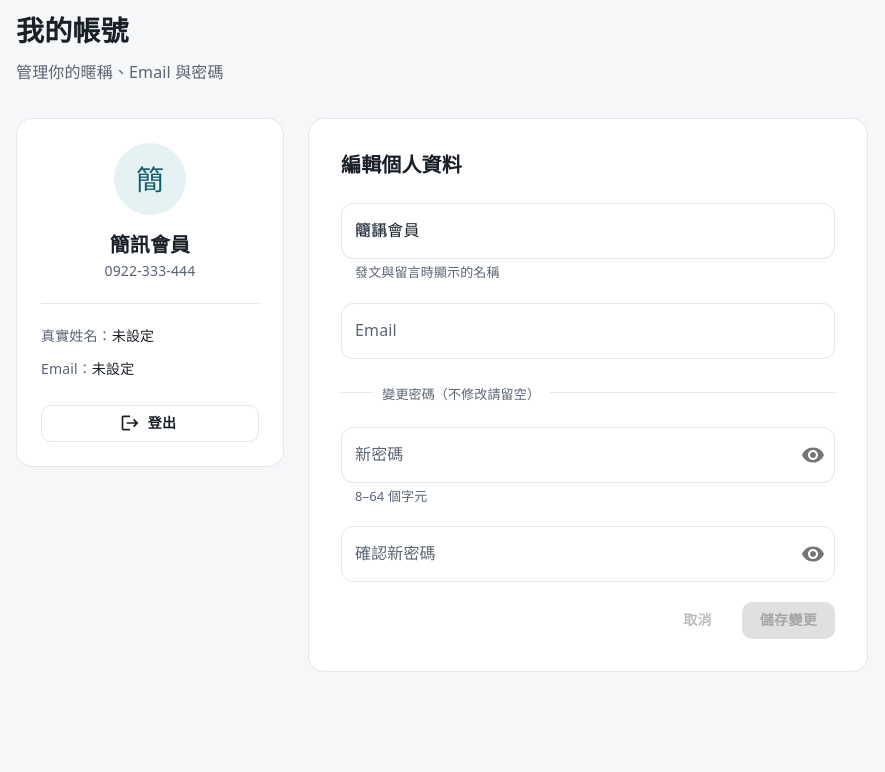
Test case: ProfilePage — change password › lets an SMS-only account set a first password without the current password
The width and height of the screenshot is (885, 772).
Expected: the field labelled "暱稱" holds "簡訊會員", [341,203,835,259]
Step 1. Type "brand-new-pass-1" into the password field labelled "新密碼" → (563, 455), box [341,427,785,483]
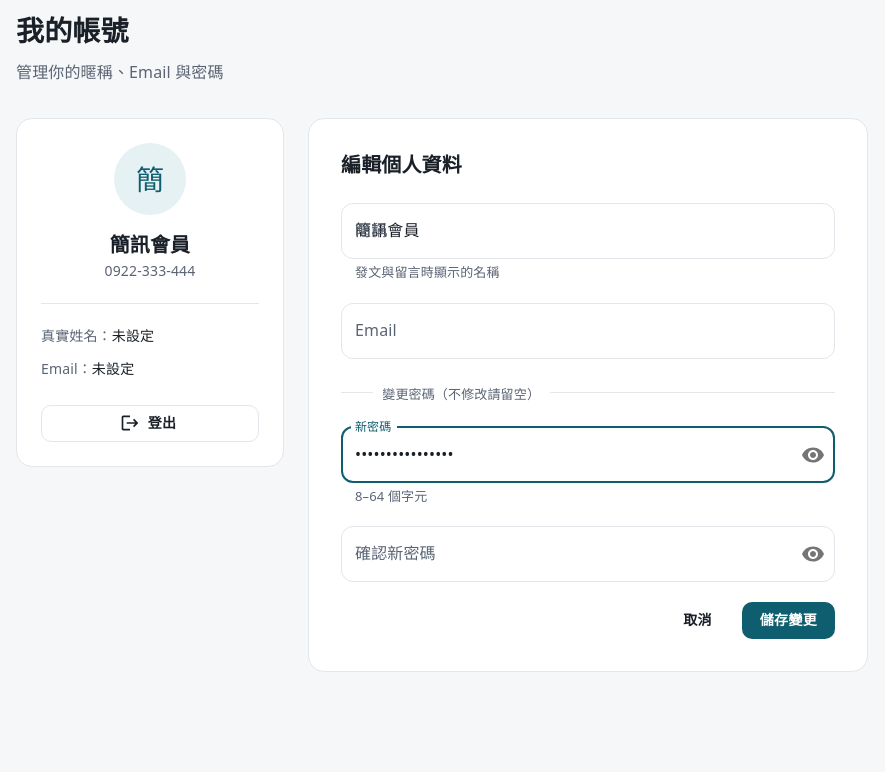
Step 2. Type "brand-new-pass-1" into the password field labelled "確認新密碼" → (563, 554), box [341,526,785,582]
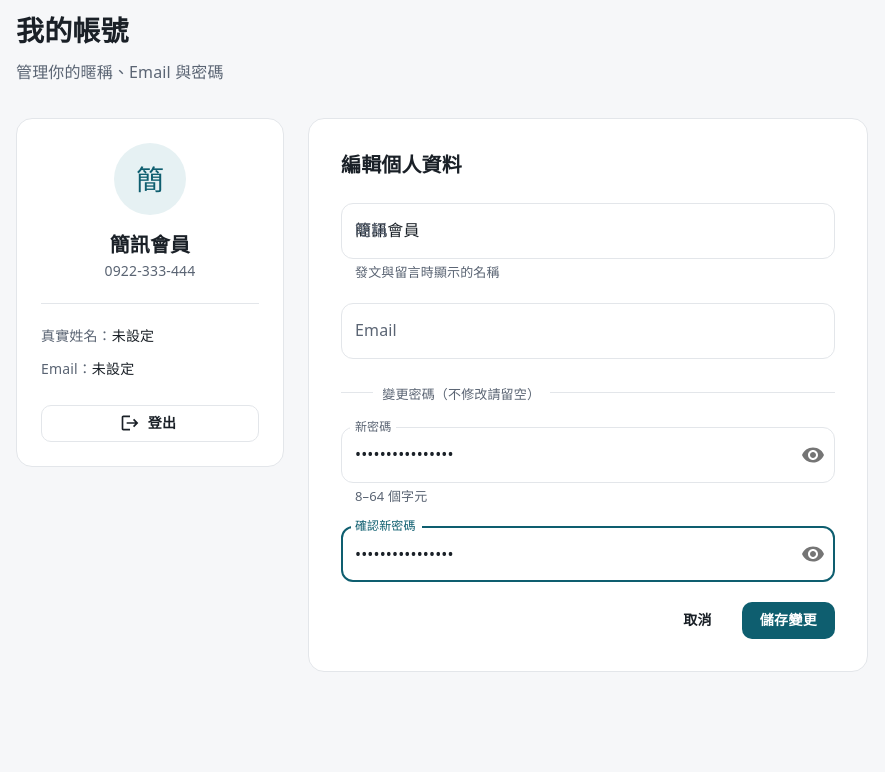
Expected: the field labelled "目前密碼" is not shown
Step 3. Click the button "儲存變更" → (788, 621), box [742,602,835,639]
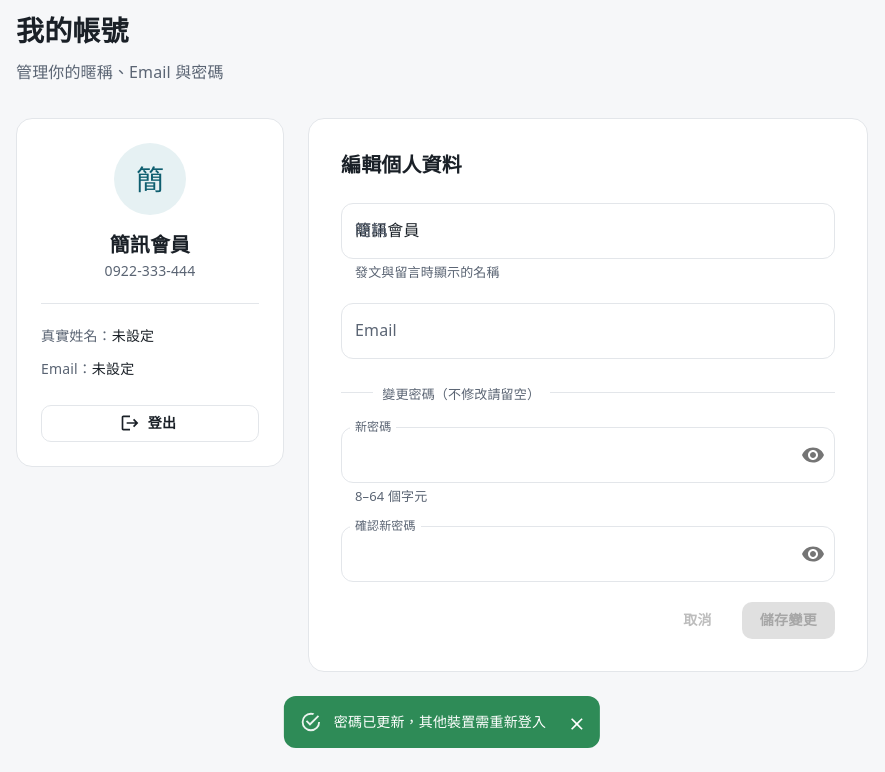
Expected: the text "密碼已更新，其他裝置需重新登入" is shown, [334,712,546,731]
Expected: the password field labelled "新密碼" is empty
Step 4. Type "a" into the password field labelled "新密碼" → (563, 455), box [341,427,785,483]
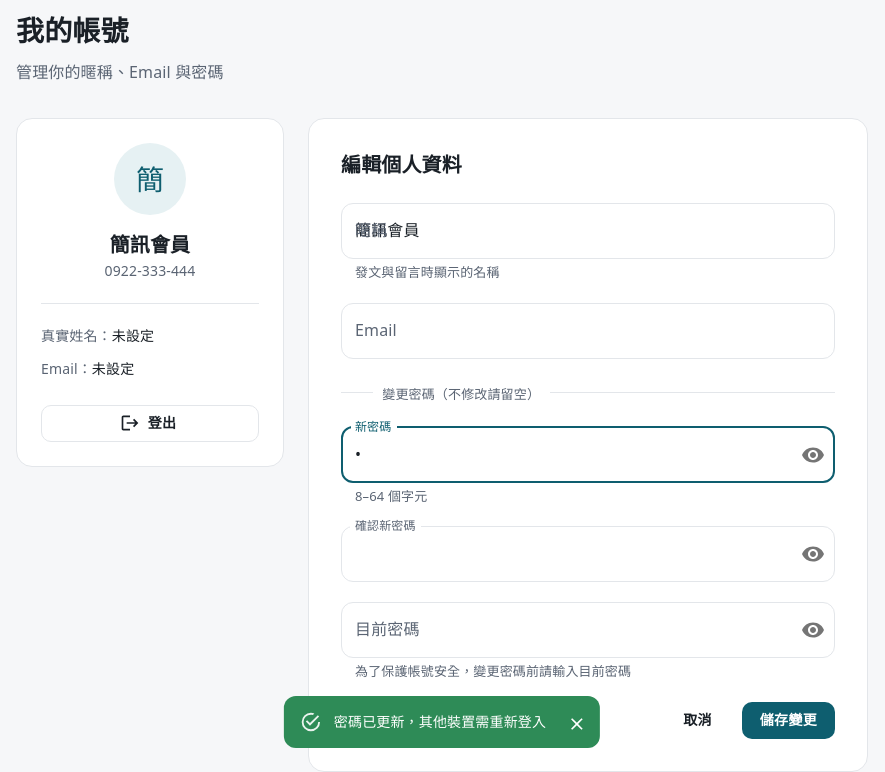
Expected: the password field labelled "目前密碼" is shown, [341,602,785,658]
